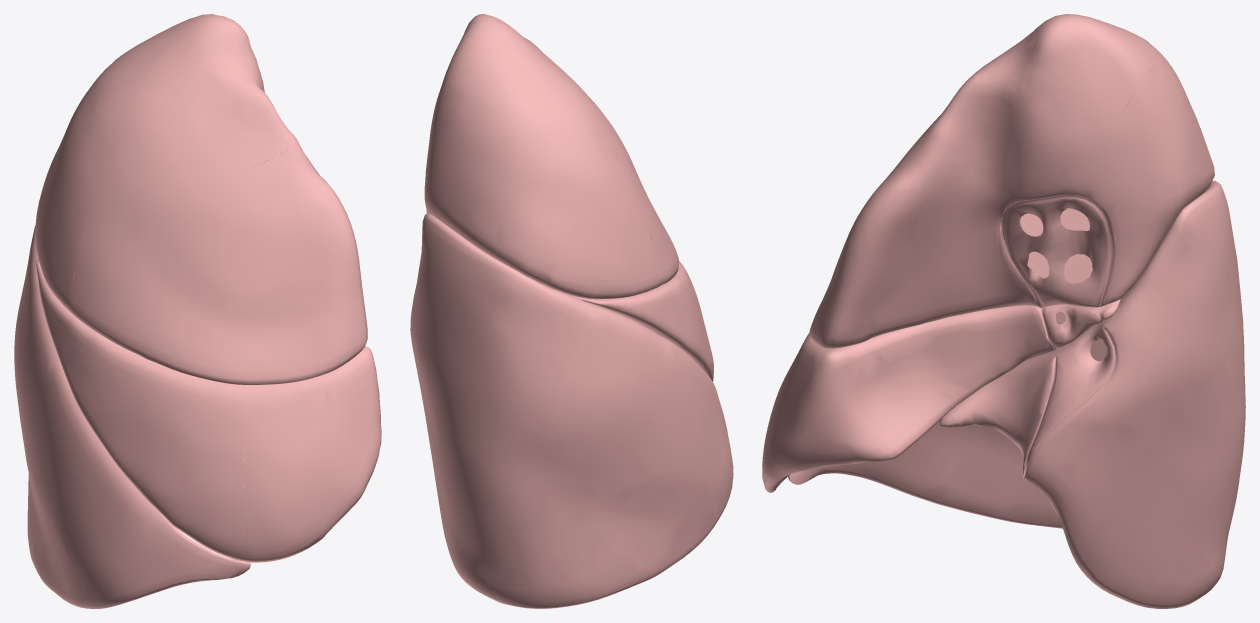
The model's file is pulmao-direito.glb.
3 views of the same model, side by side, from view 1: azimuth 30°, elevation 25°; view 2: azimuth 150°, elevation 25°; view 3: azimuth 270°, elevation 25° (orthographic). The views are drawn at different scales.
Visible parts, largest first — view 1: Superior lobe of right lung, Middle lobe of right lung, Inferior lobe of right lung; view 2: Inferior lobe of right lung, Superior lobe of right lung, Middle lobe of right lung; view 3: Inferior lobe of right lung, Superior lobe of right lung, Middle lobe of right lung.
Part boxes in pixels (x1,y1,x2,y2): Superior lobe of right lung: (35, 14, 367, 384); Middle lobe of right lung: (36, 259, 381, 562); Inferior lobe of right lung: (14, 225, 250, 608); Inferior lobe of right lung: (410, 213, 733, 608); Superior lobe of right lung: (424, 14, 678, 299); Middle lobe of right lung: (567, 261, 713, 381); Inferior lobe of right lung: (788, 180, 1245, 608); Superior lobe of right lung: (809, 14, 1214, 348); Middle lobe of right lung: (762, 208, 1120, 492).
Size of the model in its own units: 0.1284 by 0.2596 by 0.1857.
